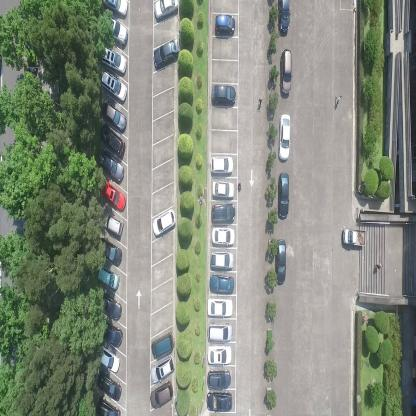car: (97, 148, 124, 185), (98, 123, 126, 158), (100, 70, 128, 103), (100, 178, 127, 211), (95, 370, 122, 402), (153, 37, 179, 70), (102, 100, 127, 132), (151, 328, 175, 361), (100, 45, 127, 74), (149, 354, 175, 384), (149, 380, 175, 410), (152, 207, 177, 238), (104, 16, 128, 48), (99, 236, 123, 267), (210, 82, 237, 108), (99, 291, 122, 321), (276, 170, 290, 218), (278, 112, 291, 163), (99, 345, 121, 375), (279, 46, 292, 95), (96, 265, 119, 292), (101, 319, 123, 347), (207, 297, 234, 319), (205, 368, 232, 390), (153, 0, 180, 22), (214, 12, 236, 38), (102, 212, 124, 238), (208, 274, 235, 295), (205, 391, 232, 412), (274, 238, 286, 284), (341, 227, 366, 249), (210, 202, 236, 223), (206, 345, 233, 365), (209, 250, 235, 270), (100, 0, 128, 18), (95, 396, 121, 415), (207, 324, 234, 342), (211, 180, 236, 199), (210, 155, 233, 175), (212, 227, 235, 246), (278, 0, 289, 34)
